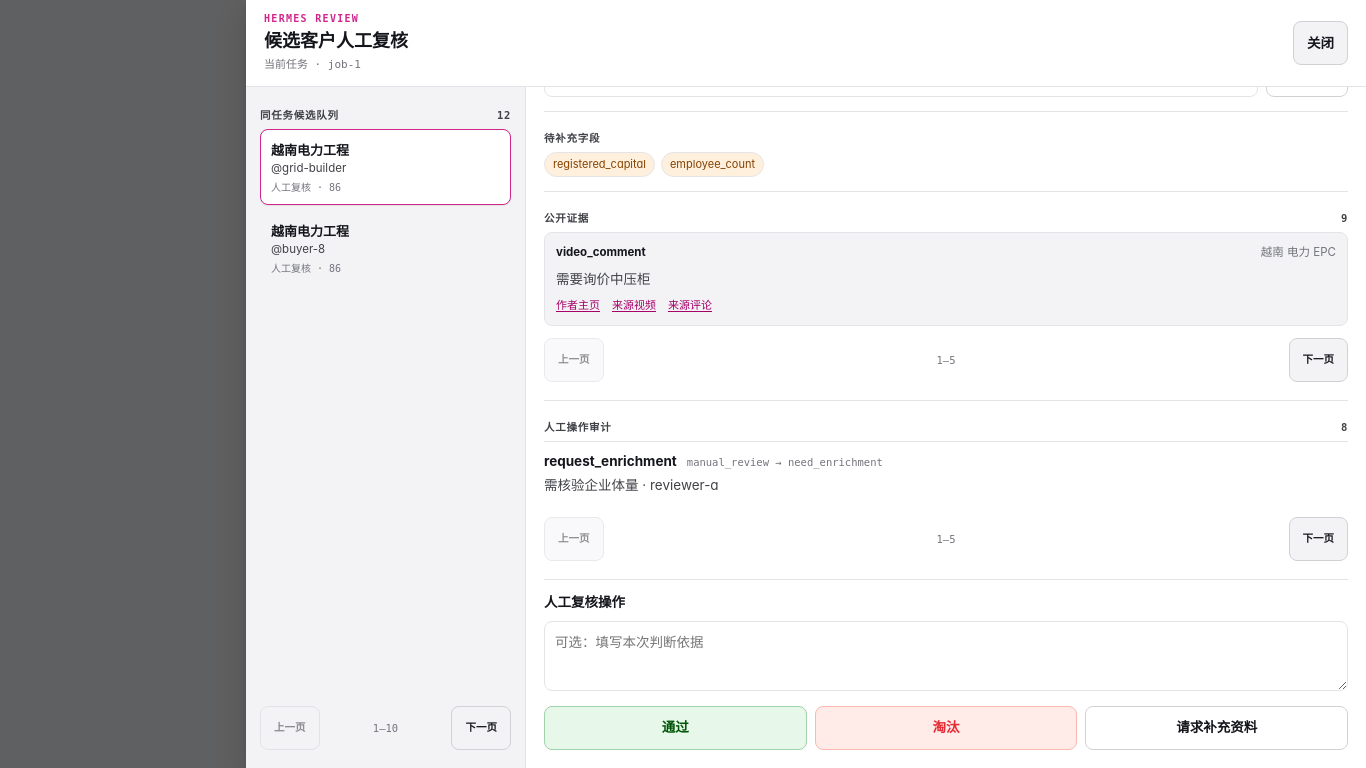
Test: CandidateReviewDrawer › keeps the selected candidate and hides private mutation failures
This screenshot has width=1366, height=768.
(page scrolled)
Click the button "通过" at (675, 728), box [544,706,807,750]
(page scrolled)
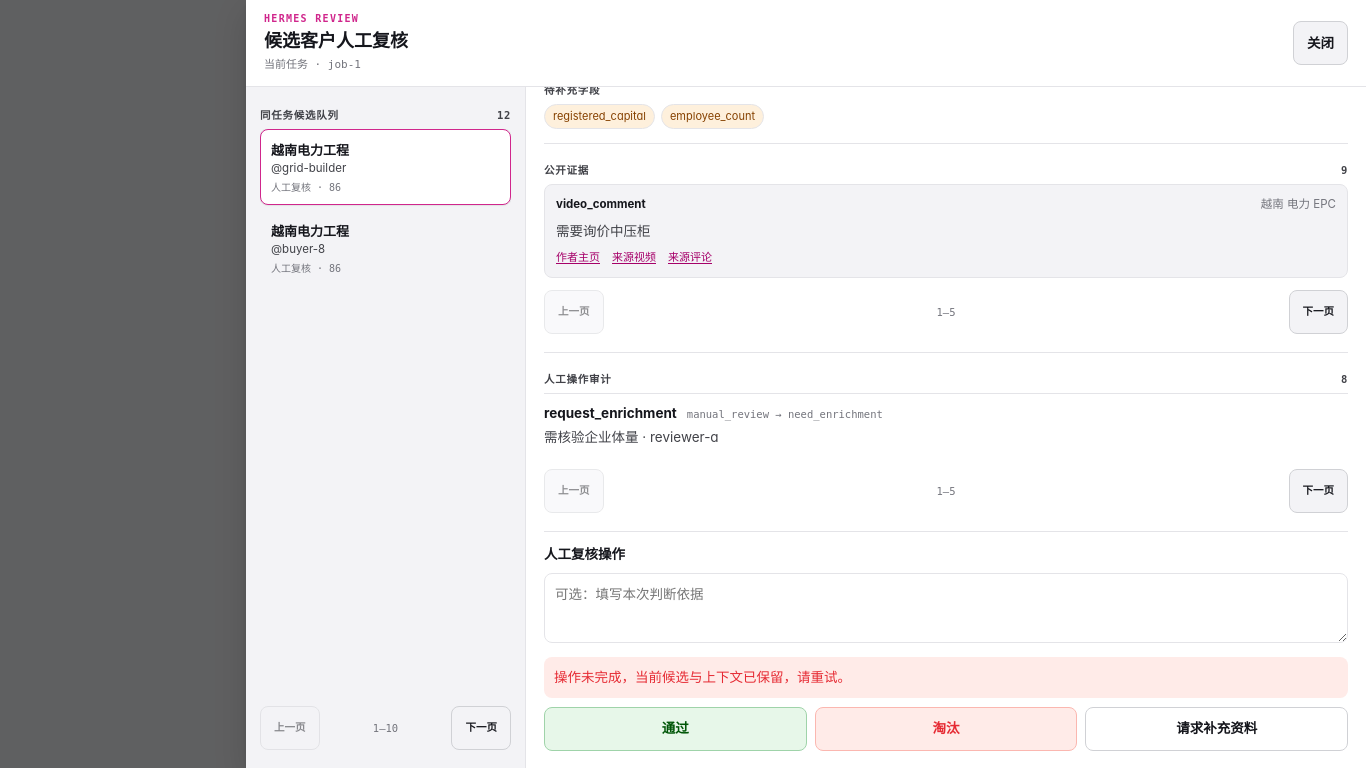
expect the text "grid-builder" is shown: met, box [271,161,346,175]
expect the message "操作未完成，当前候选与上下文已保留，请重试。" is shown: met, box [544,657,1348,698]
